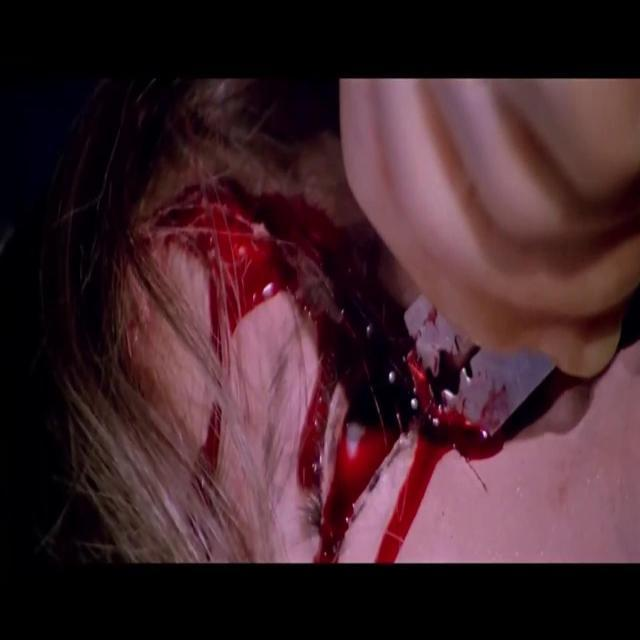flood: (188, 145, 519, 562)
